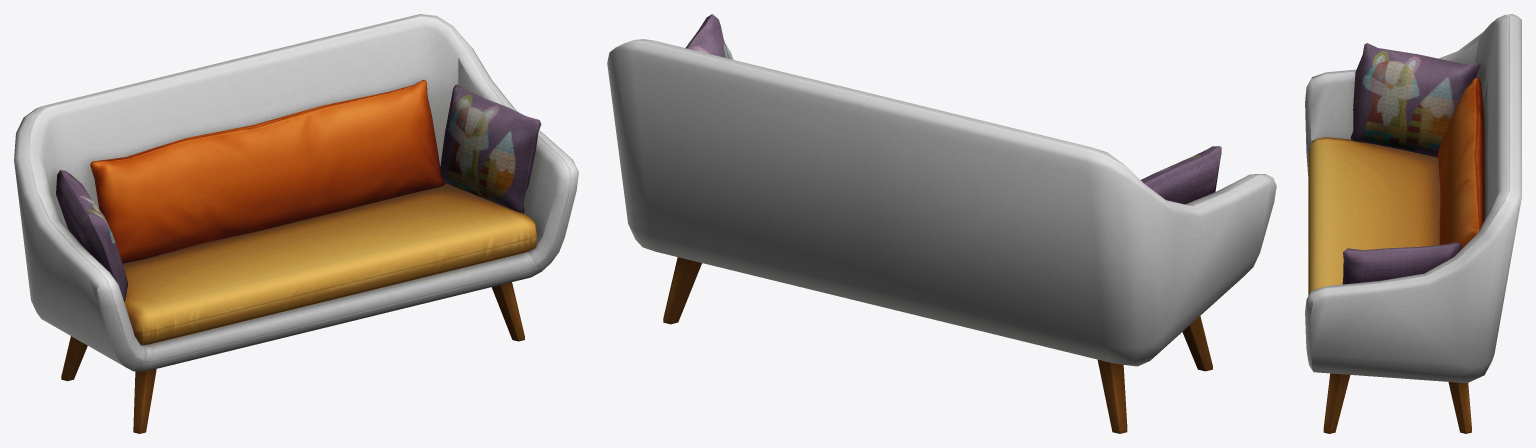
Rendered from Lovely.glb.
3 views of the same model, side by side, from view 1: azimuth 30°, elevation 25°; view 2: azimuth 150°, elevation 25°; view 3: azimuth 270°, elevation 25° (orthographic). The views are drawn at different scales.
Visible parts, largest first — view 1: TinyLiving_LovelyLoveseat_12; view 2: TinyLiving_LovelyLoveseat_12; view 3: TinyLiving_LovelyLoveseat_12.
Boxes of the visible parts, <box> form: TinyLiving_LovelyLoveseat_12: <box>14,14,578,433</box>; TinyLiving_LovelyLoveseat_12: <box>607,14,1276,433</box>; TinyLiving_LovelyLoveseat_12: <box>1305,14,1521,433</box>.
Size of the model in its own units: 1.83 by 0.9125 by 0.7484.
Materials: 1 (1 with a texture image).
